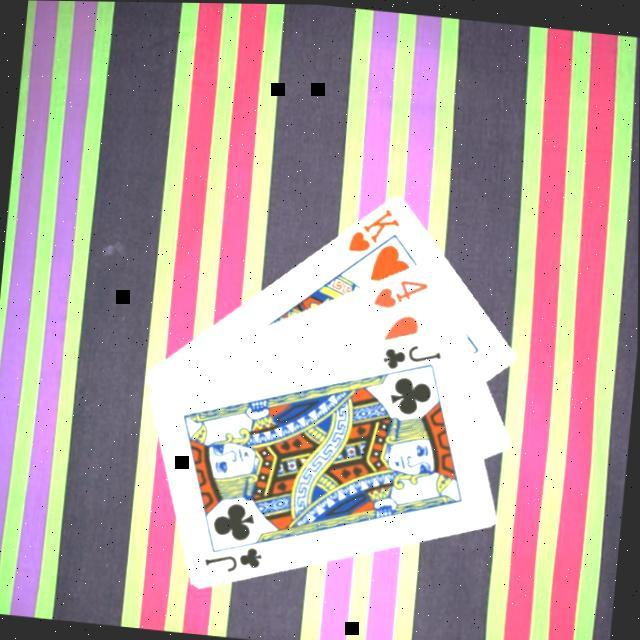4H: (370, 271, 433, 314)
JC: (379, 336, 446, 376), (201, 538, 268, 578)
KH: (345, 199, 405, 259)
